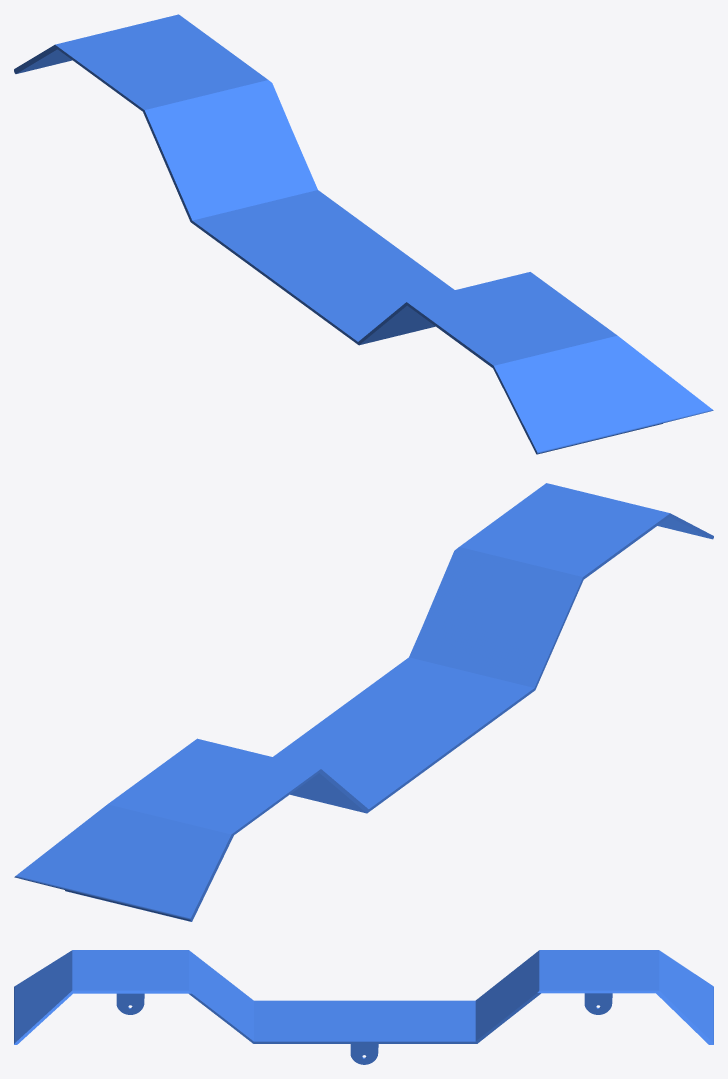
File: Fender_L.dae
3 views of the same model, one above another, from view 1: azimuth 30°, elevation 25°; view 2: azimuth 150°, elevation 25°; view 3: azimuth 270°, elevation 25° (orthographic). The views are drawn at different scales.
Visible parts, largest first — view 1: ID2; view 2: ID2; view 3: ID2.
Boxes of the visible parts, box(x1,y1,x2,y2) form: ID2: box(14, 14, 713, 454); ID2: box(14, 483, 713, 921); ID2: box(14, 950, 713, 1064).
Size of the model in its own units: 0.0978 by 0.5023 by 0.0583.
